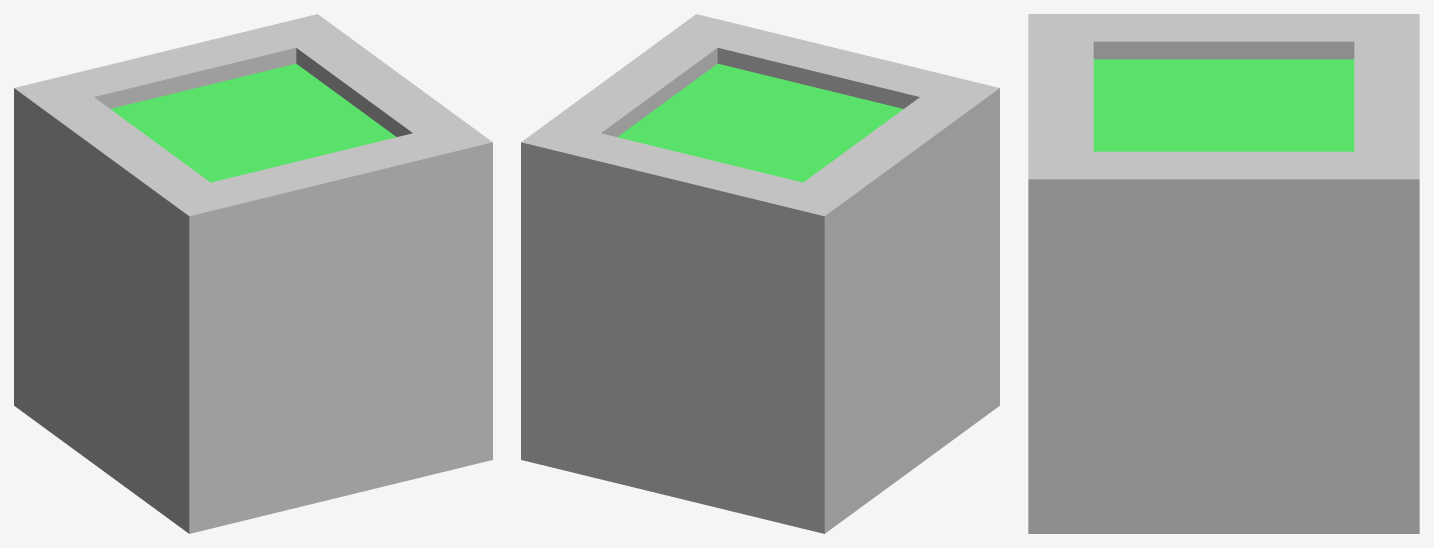
File: pot.fbx
3 views of the same model, side by side, from view 1: azimuth 30°, elevation 25°; view 2: azimuth 150°, elevation 25°; view 3: azimuth 270°, elevation 25° (orthographic). The views are drawn at different scales.
Visible parts, largest first — view 1: Cube, Cube.001; view 2: Cube, Cube.001; view 3: Cube, Cube.001.
Part boxes in pixels (x1,y1,x2,y2): Cube: [14, 14, 492, 533]; Cube.001: [110, 63, 396, 182]; Cube: [521, 14, 999, 533]; Cube.001: [617, 63, 903, 182]; Cube: [1028, 14, 1419, 533]; Cube.001: [1093, 59, 1354, 151].
Size of the model in its own units: 200 by 200 by 200.
